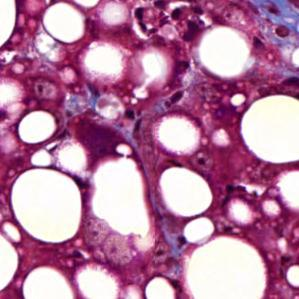steatosis: (13, 163, 81, 242), (159, 166, 217, 218), (15, 108, 58, 144)
